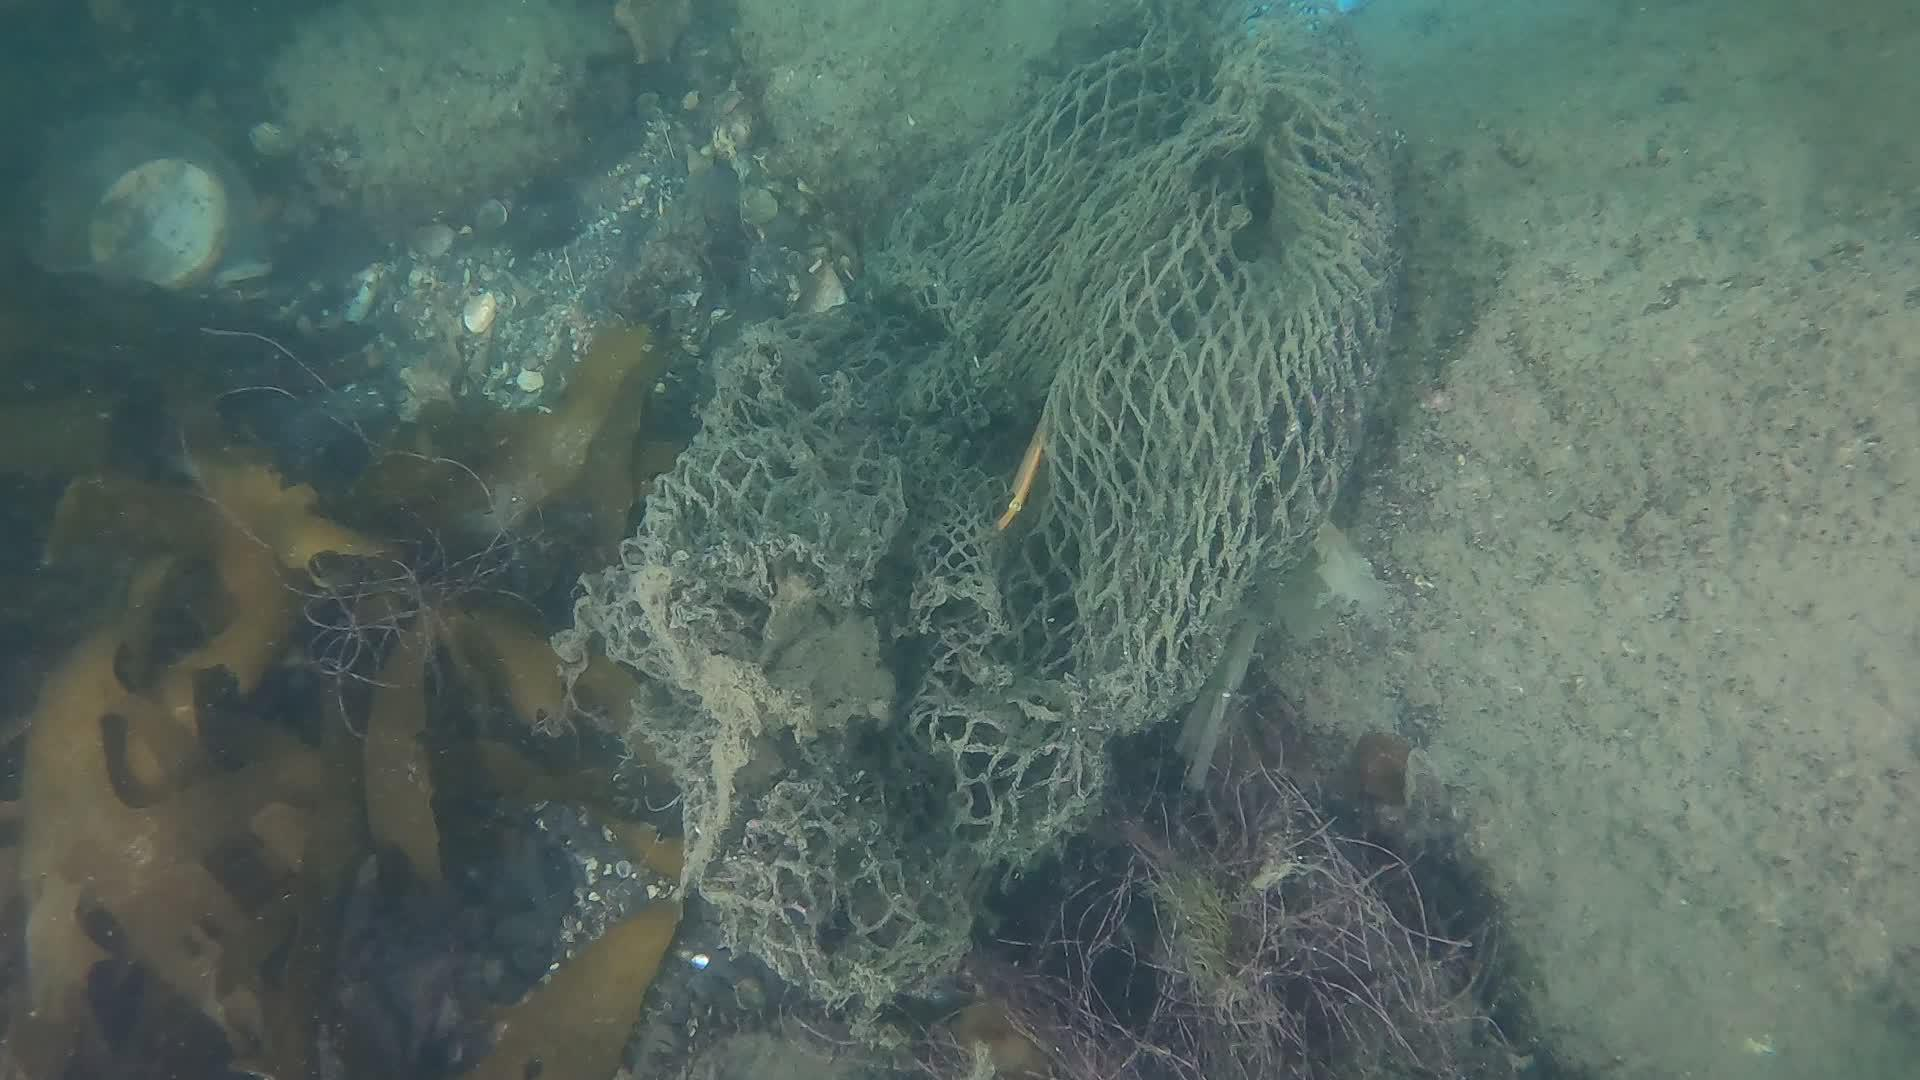fish net: (580, 0, 1393, 1005)
